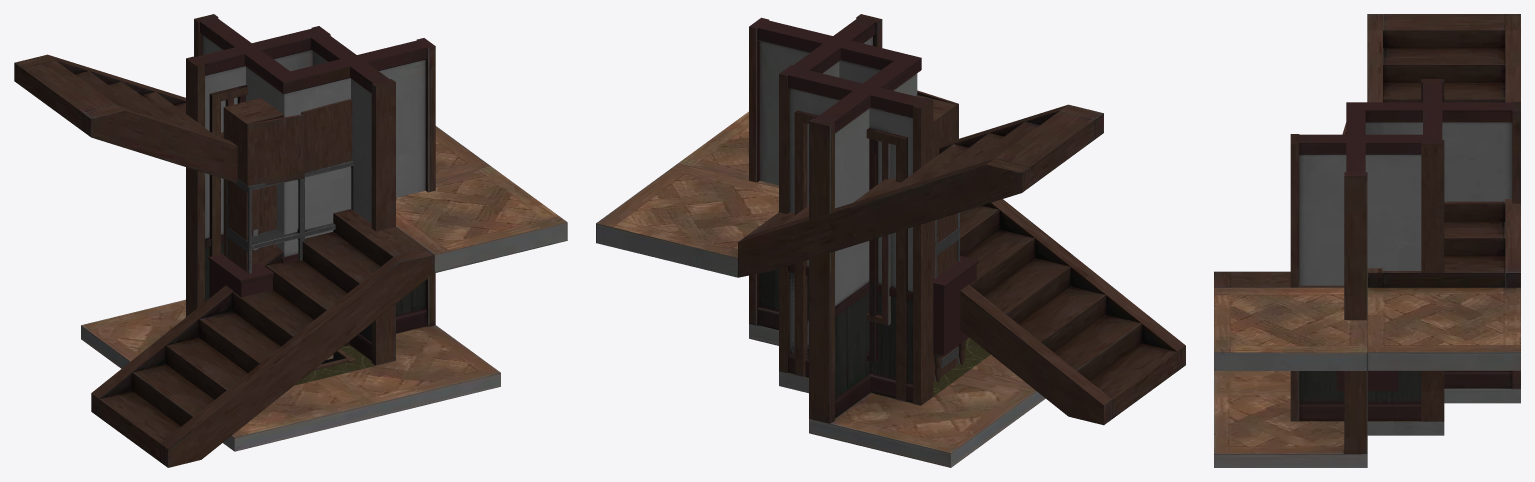
The model's file is horror_kit.glb.
3 renders of one model, left to right at view 1: azimuth 30°, elevation 25°; view 2: azimuth 150°, elevation 25°; view 3: azimuth 270°, elevation 25°, orthographic. The views are drawn at different scales.
Visible parts, largest first — view 1: Ladder002, Wall_Corner_Invert, Wal_Corner005, Cabinet002, Metal_Cabinet001, Wall_Window002, Wall_01_Door_Hole002, CabinetShort, Door, Wall_Window_Colored003, FloorTile, Wall_02037; view 2: Ladder002, Wall_Corner_Invert, Wall_Window002, Wall_01_Door_Hole002, Wall_02037, Wall_Window_Colored003, Wal_Corner005, CabinetShort, Cabinet002, FloorTile, Metal_Cabinet001; view 3: Ladder002, Wall_Corner_Invert, Wal_Corner005, Wall_Window002, Wall_02037, Wall_01_Door_Hole002, FloorTile, Wall_Window_Colored003, CabinetShort.
Part boxes in pixels (bbox=[...]): Ladder002: bbox=[14, 54, 567, 467]; Wall_Corner_Invert: bbox=[81, 14, 500, 451]; Wal_Corner005: bbox=[187, 29, 395, 365]; Cabinet002: bbox=[223, 98, 352, 271]; Metal_Cabinet001: bbox=[226, 161, 353, 273]; Wall_Window002: bbox=[186, 26, 330, 316]; Wall_01_Door_Hole002: bbox=[186, 30, 318, 313]; CabinetShort: bbox=[208, 253, 273, 297]; Door: bbox=[251, 184, 276, 264]; Wall_Window_Colored003: bbox=[186, 33, 317, 313]; FloorTile: bbox=[294, 345, 375, 385]; Wall_02037: bbox=[186, 26, 322, 314]; Ladder002: bbox=[596, 104, 1185, 425]; Wall_Corner_Invert: bbox=[749, 17, 1045, 467]; Wall_Window002: bbox=[779, 65, 933, 405]; Wall_01_Door_Hole002: bbox=[779, 68, 933, 401]; Wall_02037: bbox=[779, 68, 933, 400]; Wall_Window_Colored003: bbox=[779, 69, 933, 400]; Wal_Corner005: bbox=[783, 14, 932, 385]; CabinetShort: bbox=[933, 256, 978, 381]; Cabinet002: bbox=[916, 90, 958, 382]; FloorTile: bbox=[779, 337, 990, 403]; Metal_Cabinet001: bbox=[935, 212, 959, 380]; Ladder002: bbox=[1214, 14, 1520, 370]; Wall_Corner_Invert: bbox=[1214, 101, 1520, 467]; Wal_Corner005: bbox=[1290, 82, 1444, 421]; Wall_Window002: bbox=[1421, 79, 1444, 421]; Wall_02037: bbox=[1421, 82, 1444, 421]; Wall_01_Door_Hole002: bbox=[1421, 82, 1444, 419]; FloorTile: bbox=[1299, 421, 1444, 435]; Wall_Window_Colored003: bbox=[1421, 82, 1444, 421]; CabinetShort: bbox=[1336, 371, 1398, 391].
Bounding box in the file's own units: 4.68 × 3.28 × 3.12.
19 materials, 17 textured.
